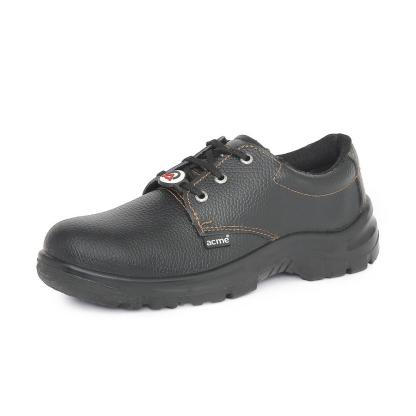bota: (33, 130, 383, 313)
